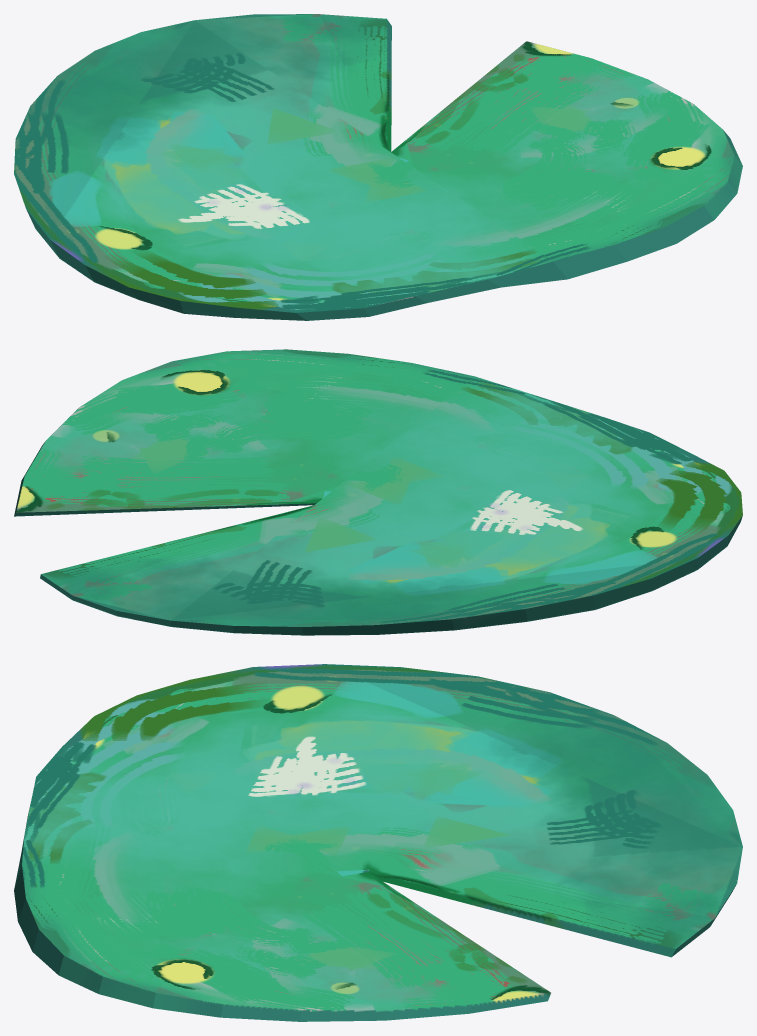
The model's file is nenuffar.fbx.
3 views of the same model, one above another, from view 1: azimuth 30°, elevation 25°; view 2: azimuth 150°, elevation 25°; view 3: azimuth 270°, elevation 25° (orthographic). The views are drawn at different scales.
Visible parts, largest first — view 1: Circle; view 2: Circle; view 3: Circle.
Part boxes in pixels (<box>): Circle: <box>14,14,742,320</box>; Circle: <box>14,349,742,635</box>; Circle: <box>14,664,742,1021</box>.
Size of the model in its own units: 210 by 10.88 by 192.
Materials: 1 (1 with a texture image).
